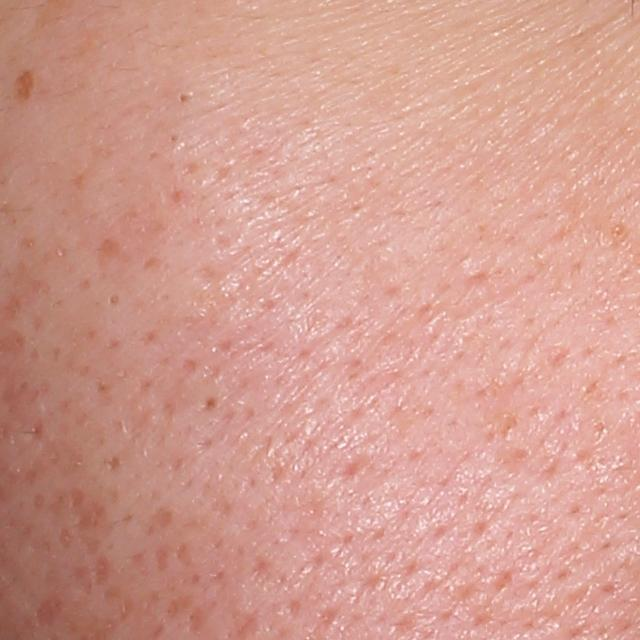atrophic_scar: (34, 593, 64, 631)
comedo: (199, 398, 219, 412), (172, 93, 190, 107), (105, 295, 121, 310)
melasma: (11, 66, 36, 100)
